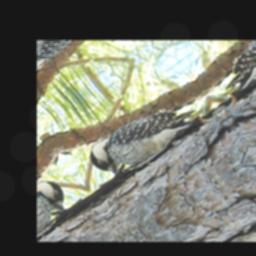Woodpecker: (82, 86, 207, 188)
